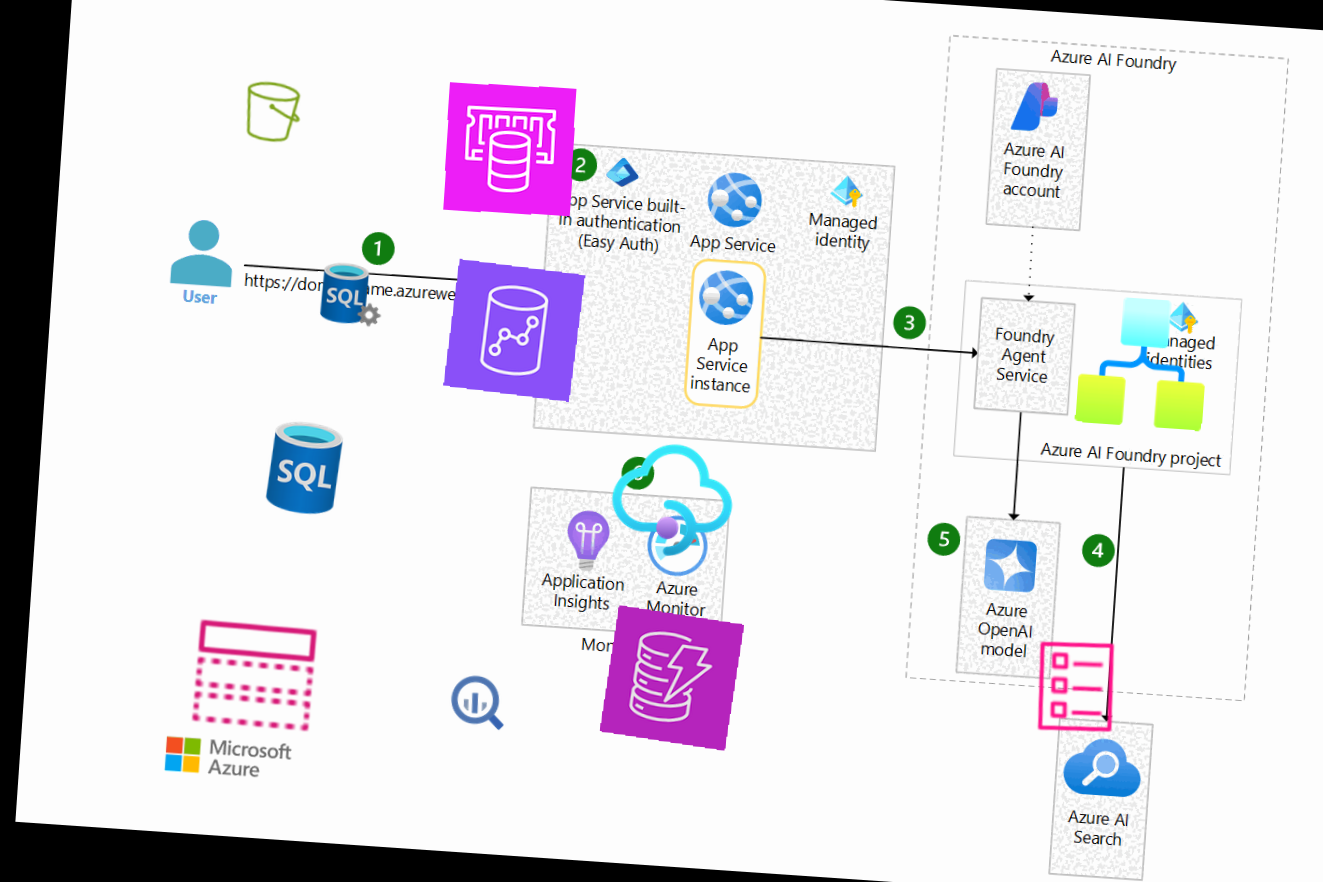aws_amazon_dynamodb: (598, 603, 745, 752)
aws_amazon_elasticache: (440, 79, 579, 219)
aws_amazon_redshift: (442, 258, 586, 402)
aws_cloudformation_template: (1022, 633, 1127, 739)
aws_simple_notification_service_topic: (184, 605, 324, 745)
aws_simple_storage_service_s3_standard: (235, 74, 309, 149)
azure_api_management_services: (600, 427, 743, 572)
azure_logic_apps: (1074, 293, 1211, 431)
azure_sql_database: (249, 412, 359, 523)
azure_sql_server: (317, 259, 386, 329)
gcp_bigquery: (441, 666, 513, 738)
